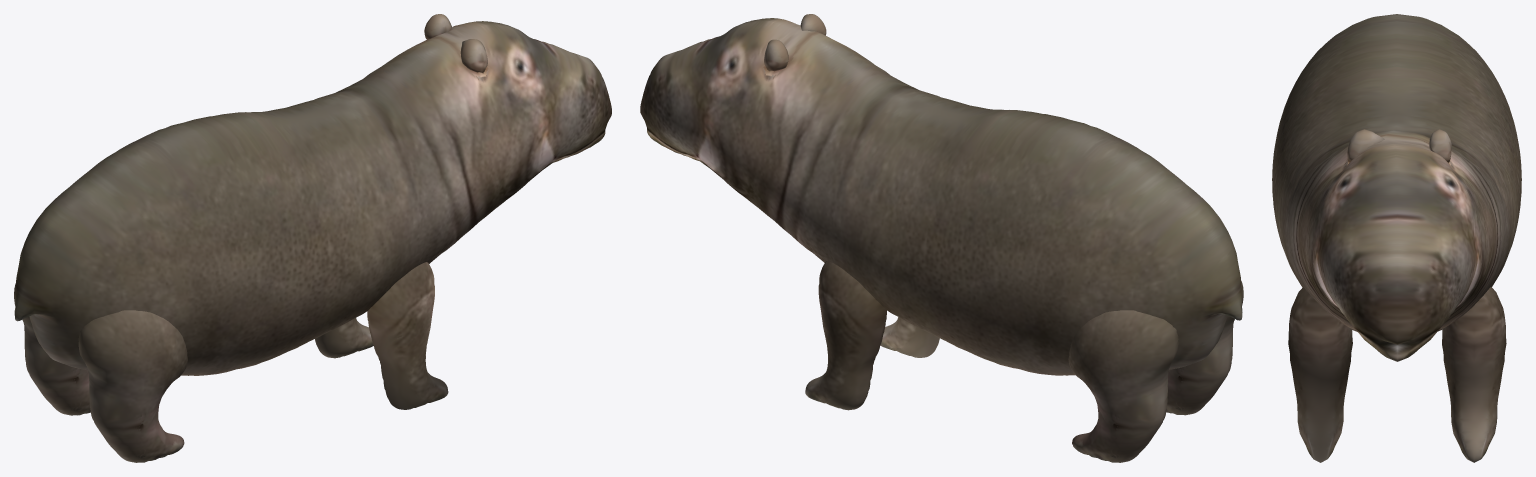
File: hippo.glb
3 renders of one model, left to right at view 1: azimuth 30°, elevation 25°; view 2: azimuth 150°, elevation 25°; view 3: azimuth 270°, elevation 25°, orthographic. The views are drawn at different scales.
Parts seen in each view (by area): view 1: mm_frame (42); view 2: mm_frame (42); view 3: mm_frame (42).
Part boxes in pixels (<box>): mm_frame (42): <box>14,14,611,462</box>; mm_frame (42): <box>640,14,1243,462</box>; mm_frame (42): <box>1272,14,1521,462</box>.
Bounding box in the file's own units: 6.2 × 3.32 × 2.08.
Materials: 1 (1 with a texture image).
